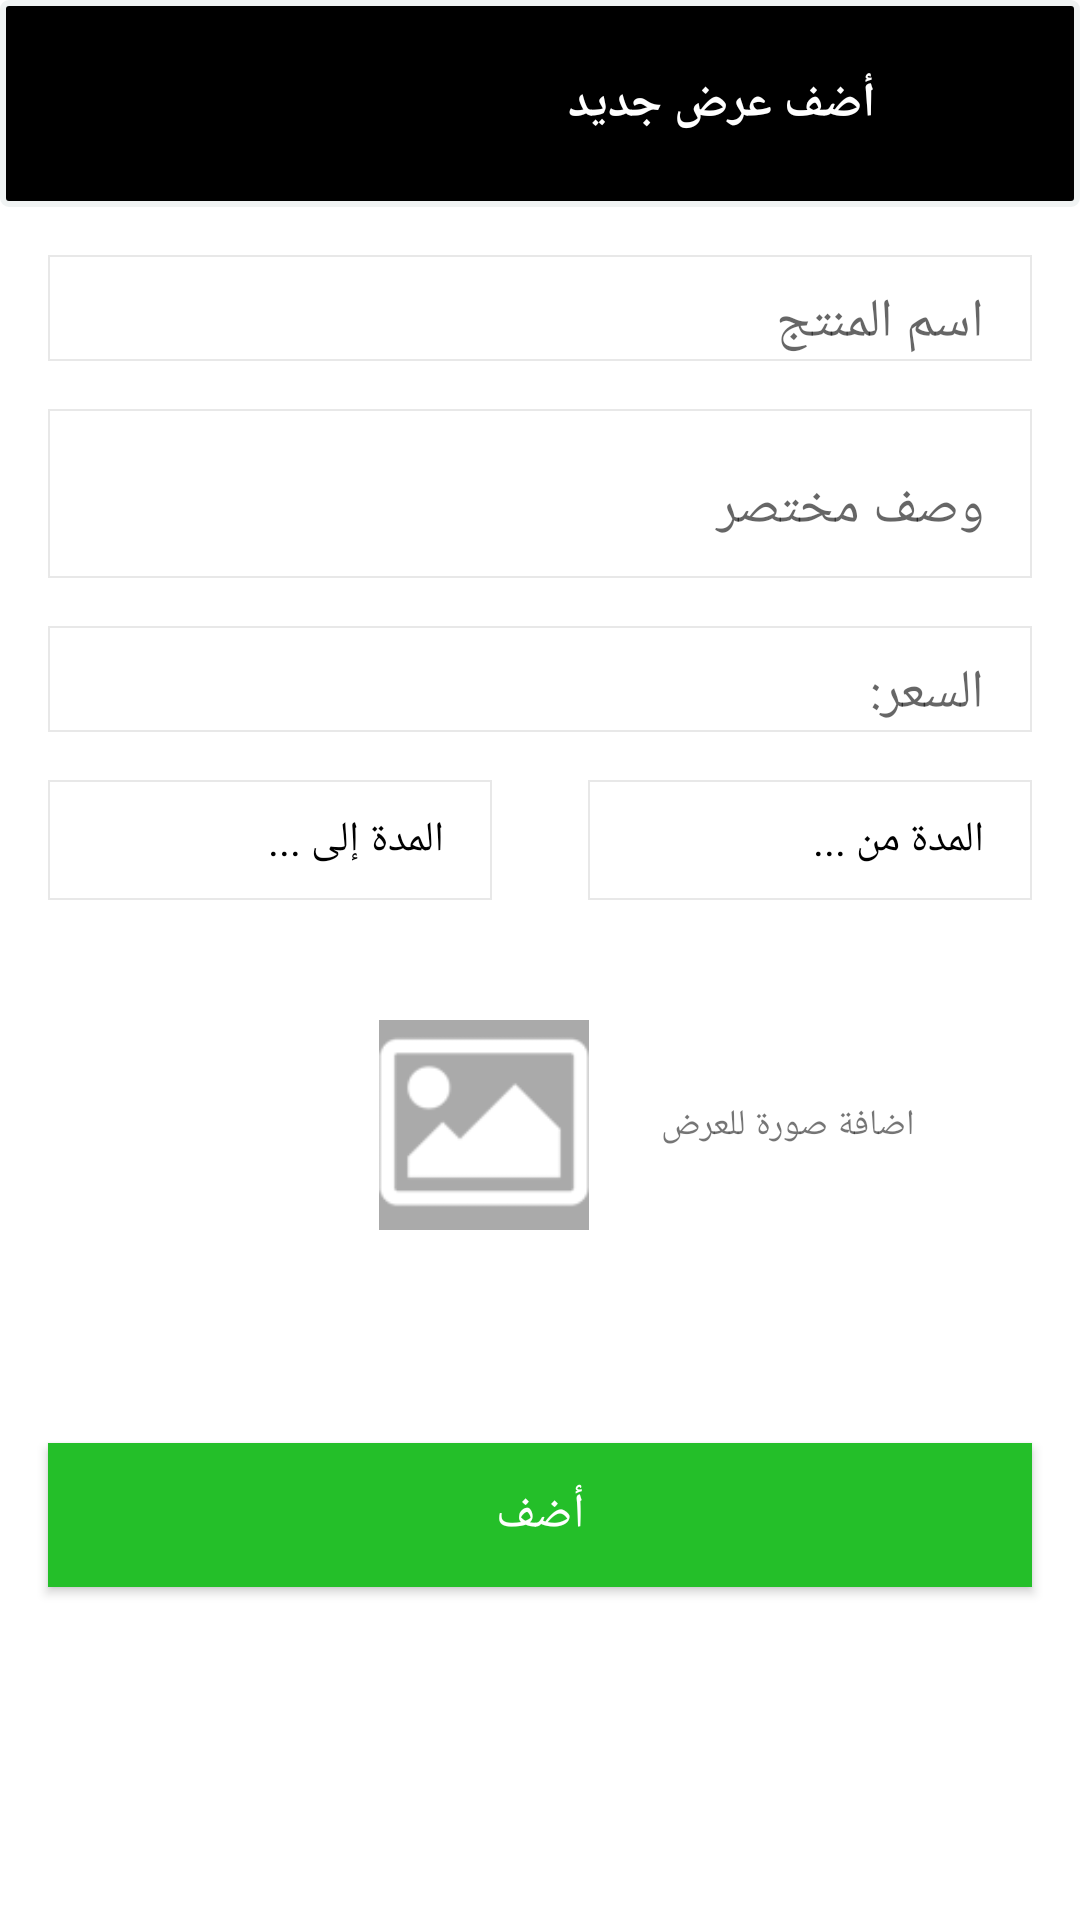

Named icons in this screenshot (1080 × 1920) and their bounding boxes, (x1, y1, x2, y2):
photo: (379, 1020, 589, 1230)
